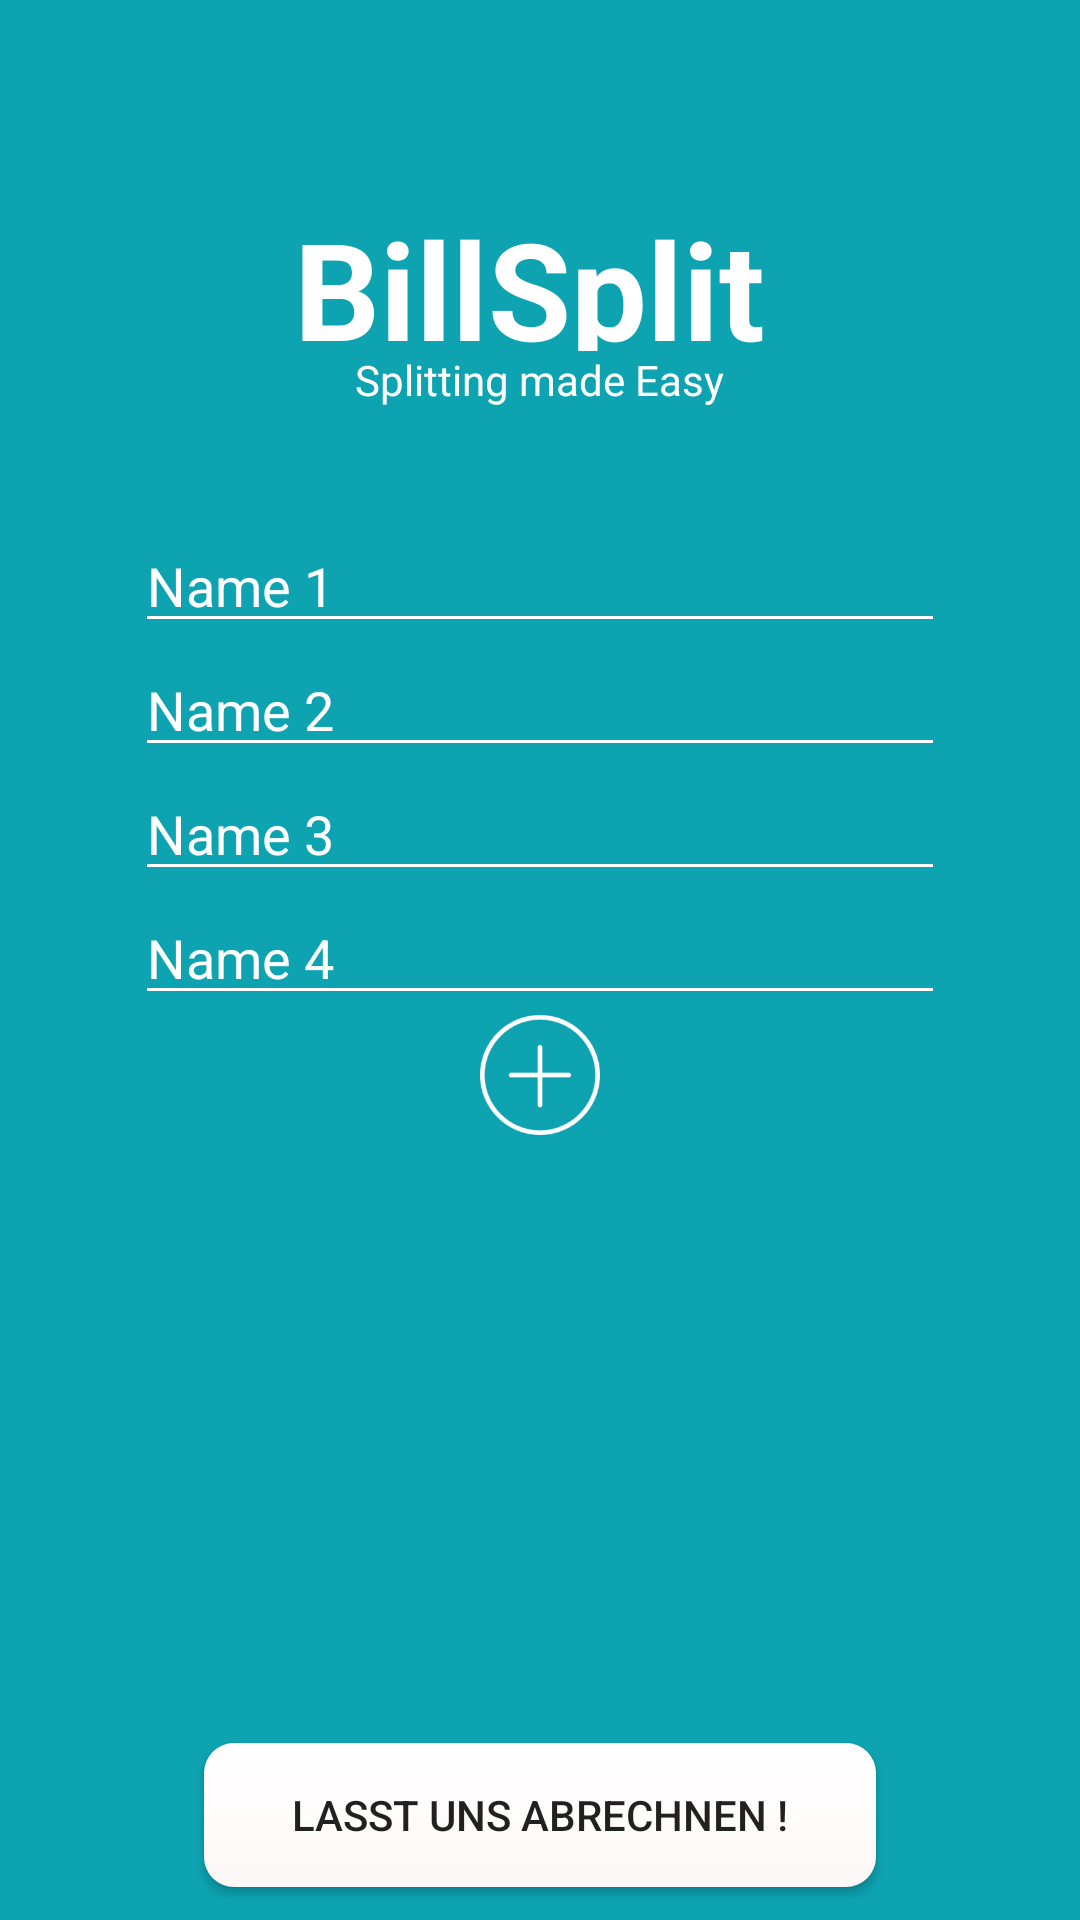

Where icons sit on this 1080*1920 app screen, as (left=x1, top=y1, right=x2, bottom=y2):
plus: (left=480, top=1015, right=600, bottom=1135)
